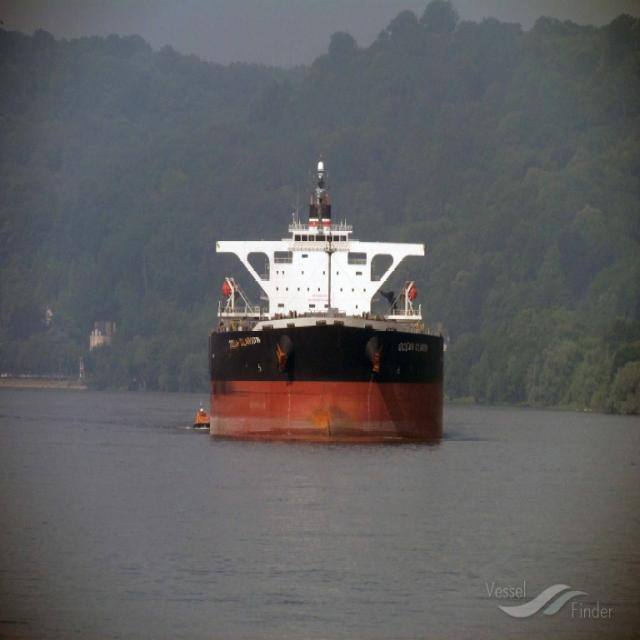OCR: (224, 338, 261, 360), (396, 337, 430, 359)
